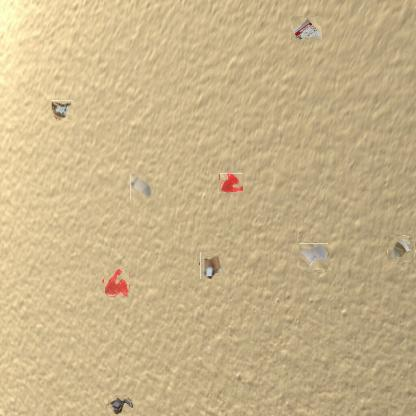dirty: (299, 243, 328, 271), (290, 16, 322, 40), (388, 235, 415, 261), (199, 253, 224, 278), (130, 173, 153, 199), (107, 394, 133, 416), (52, 100, 73, 121)
liquid: (102, 270, 130, 298), (219, 173, 243, 192)
